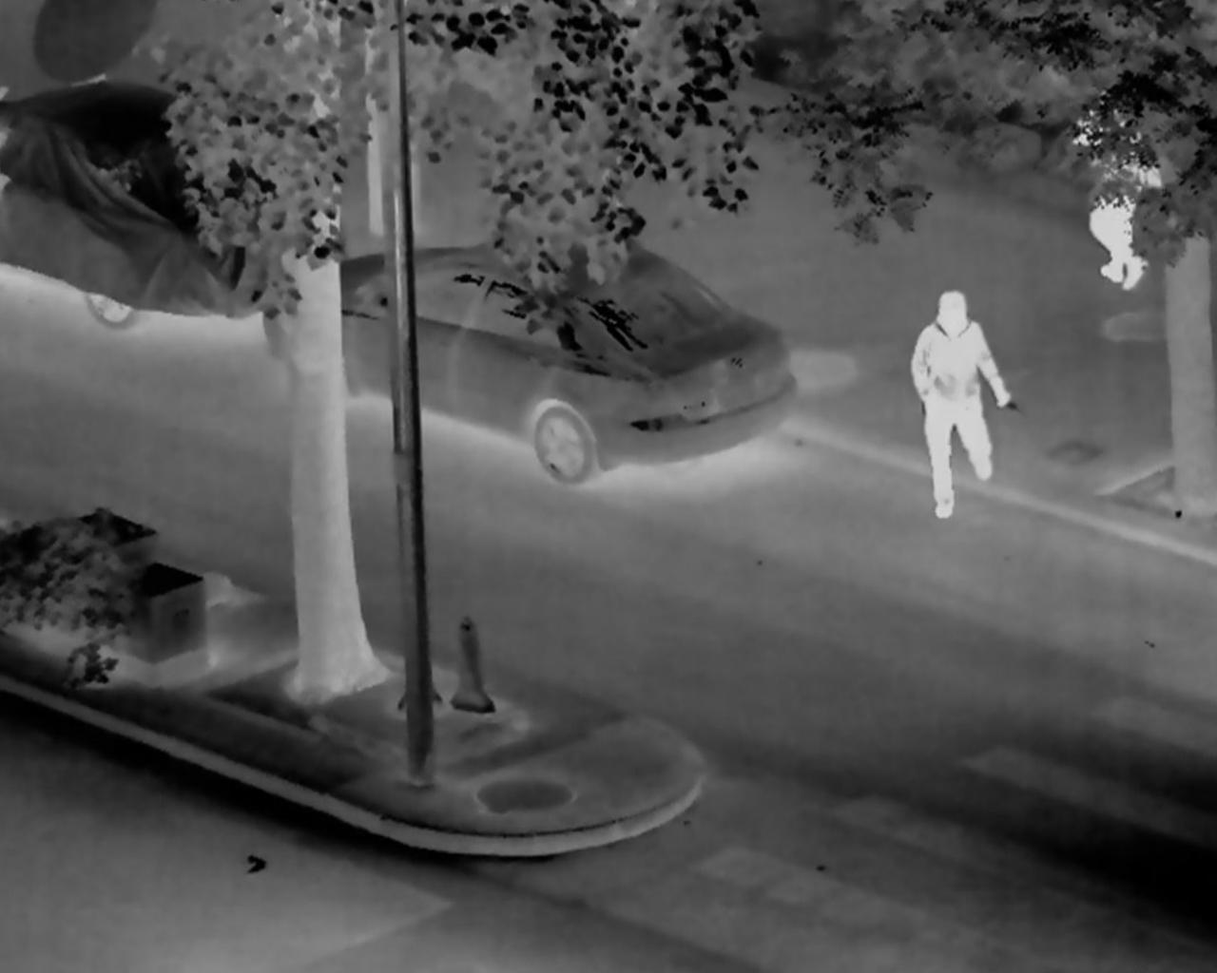person: (911, 290, 1013, 522), (1077, 89, 1166, 290)
